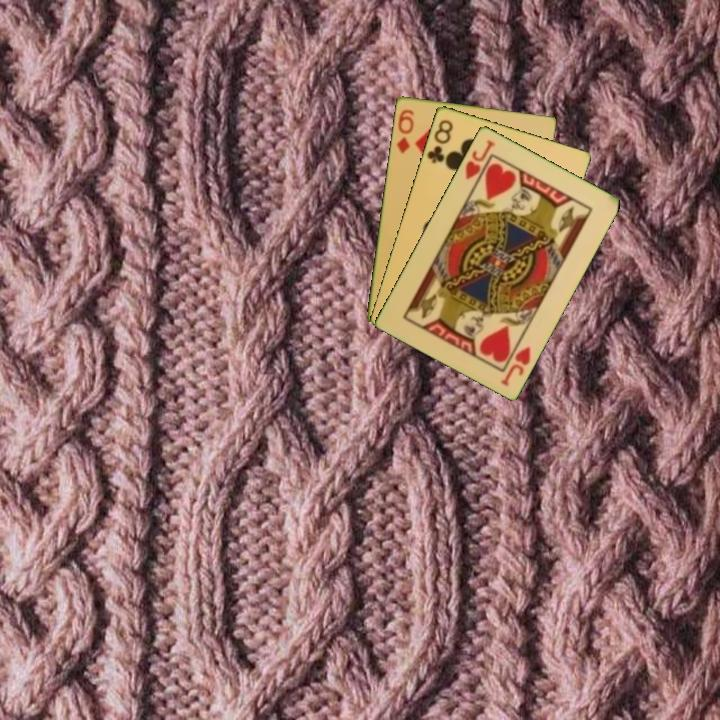6d: (393, 105, 417, 156)
8c: (423, 116, 456, 166)
Jh: (461, 136, 498, 182), (497, 342, 533, 388)
